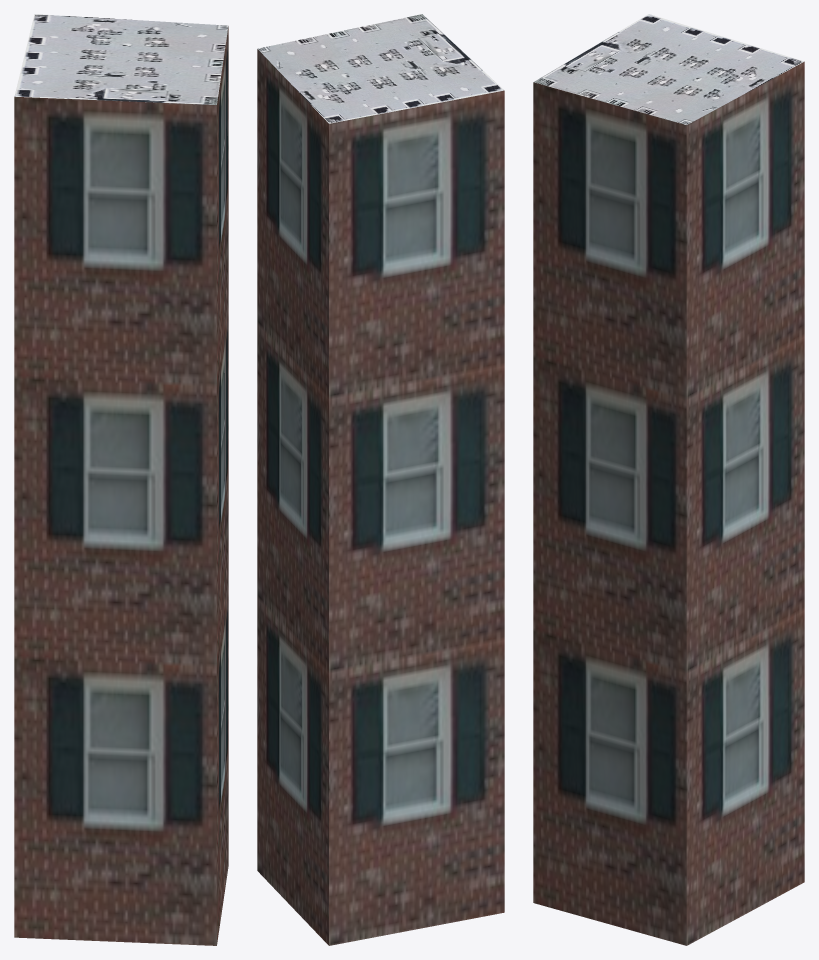
File: ResTex__2445.fbx
3 renders of one model, left to right at view 1: azimuth 30°, elevation 25°; view 2: azimuth 150°, elevation 25°; view 3: azimuth 270°, elevation 25°, orthographic. The views are drawn at different scales.
Parts seen in each view (by area): view 1: CityEngineMaterial_14_m, CityEngineMaterial_8_m; view 2: CityEngineMaterial_14_m, CityEngineMaterial_8_m; view 3: CityEngineMaterial_14_m, CityEngineMaterial_8_m.
Part boxes in pixels (left/top/right/bottom): CityEngineMaterial_14_m: left=14, top=26, right=228, bottom=945; CityEngineMaterial_8_m: left=14, top=14, right=228, bottom=104; CityEngineMaterial_14_m: left=257, top=49, right=504, bottom=945; CityEngineMaterial_8_m: left=257, top=14, right=504, bottom=123; CityEngineMaterial_14_m: left=533, top=61, right=804, bottom=945; CityEngineMaterial_8_m: left=533, top=14, right=804, bottom=124.
Bounding box in the file's own units: 2.62 × 9 × 2.7.
2 materials, 2 textured.
